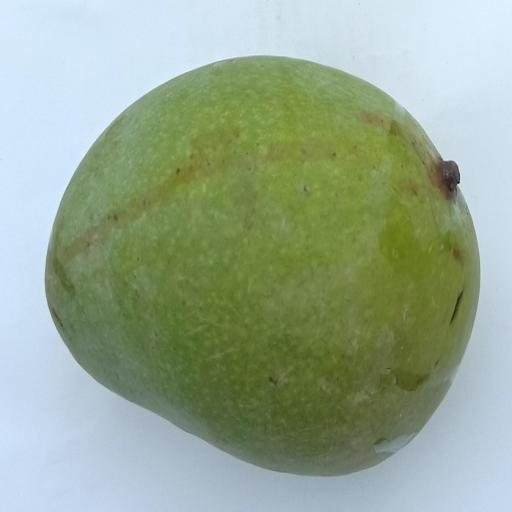mango-unripe: (15, 25, 512, 472)
